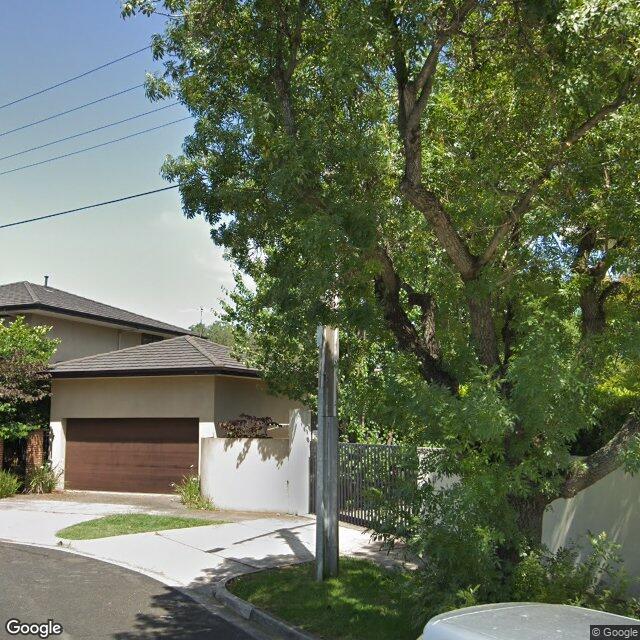timber-pole: (315, 257, 340, 580)
